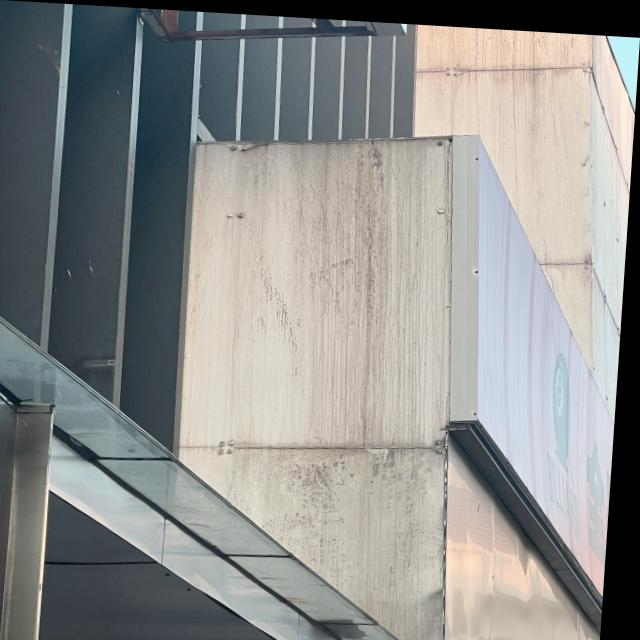damp: (242, 150, 451, 446), (432, 27, 600, 144)
mildew: (237, 455, 444, 579)
